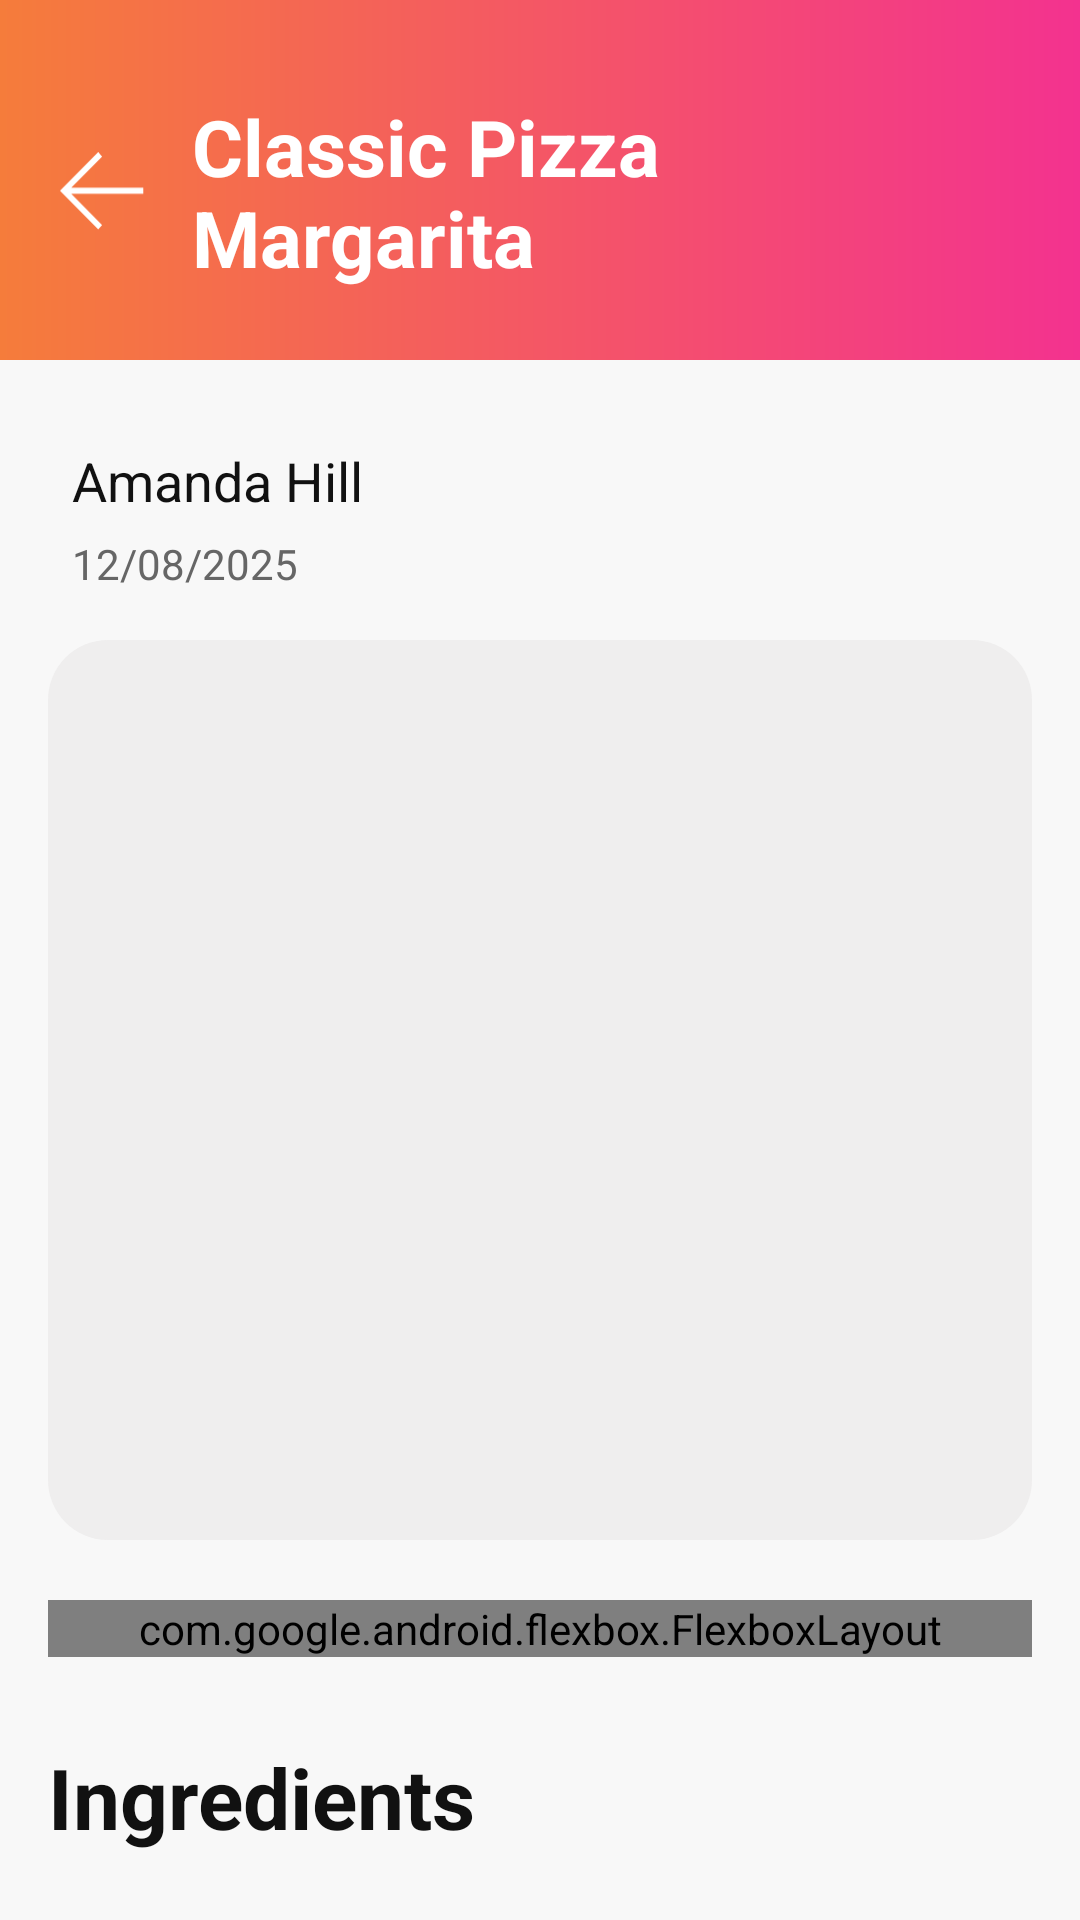

Named icons in this screenshot (1080w x 1920h) and their bounding boxes, bbox=(x1, y1, x2, y2):
arrow back: bbox=(60, 152, 144, 230)
